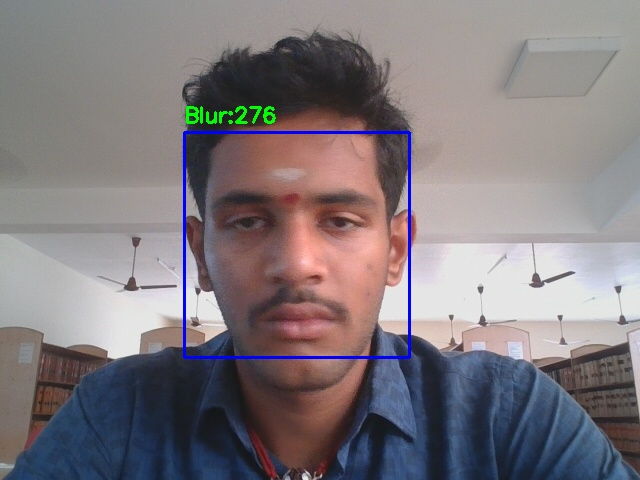real: (184, 132, 409, 357)
